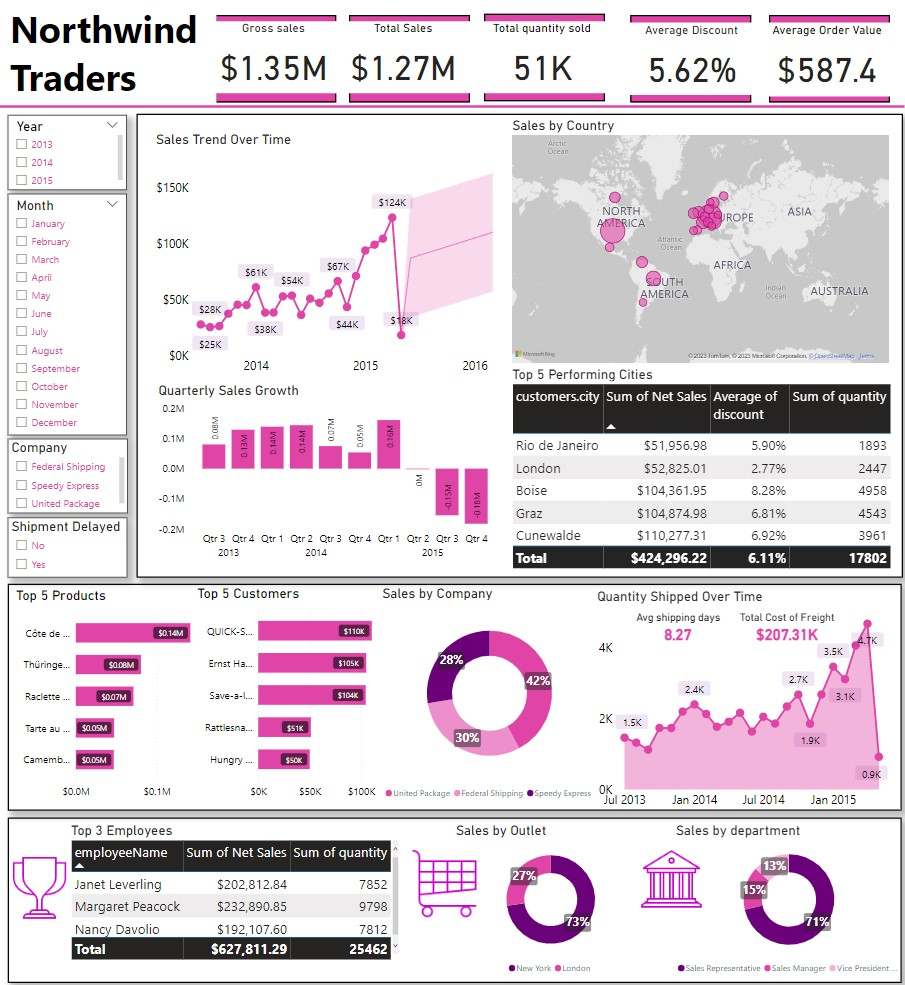

What the dashboard file says about the page in this screenshot:
{"tool":"powerbi","page":{"name":"Dashboard","canvas":[1450,1600],"ordinal":0},"visuals":[{"type":"shape","box":[13.8,1308.8,1430,265],"z":0},{"type":"shape","box":[14.3,934.3,1430,362.9],"z":1000},{"type":"shape","box":[220,182,1226,742],"z":2000},{"type":"lineChart","title":"Sales Trend Over Time","fields":{"Y":["Table1.Net Sales"],"Category":["Table1.orderDate.Variation.Date Hierarchy.Year","Table1.orderDate.Variation.Date Hierarchy.Quarter","Table1.orderDate.Variation.Date Hierarchy.Month"]},"box":[246,210,570,398],"z":3000},{"type":"slicer","fields":{"Values":["Table1.orderDate.Variation.Date Hierarchy.Year"]},"box":[14,183,190,120],"z":4000},{"type":"slicer","fields":{"Values":["Table1.orderDate.Variation.Date Hierarchy.Month"]},"box":[14,309,190,386],"z":5000},{"type":"map","title":"Sales by Country","fields":{"Category":["Table1.customers.country"],"Size":["Table1.Net Sales"]},"box":[816,188,614,398],"z":6000},{"type":"shape","box":[345.7,23.9,193.3,140],"z":7000},{"type":"card","title":"Gross sales","fields":{"Values":["Table1.Gross sales"]},"box":[325.9,34.7,226.7,115],"z":8000},{"type":"shape","box":[560.1,23.9,193.3,140],"z":9000},{"type":"shape","box":[775.7,22.4,193.3,140],"z":10000},{"type":"shape","box":[1010,24.7,193.3,140],"z":11000},{"type":"shape","box":[1231.6,24.5,193.3,140],"z":12000},{"type":"card","title":"Total quantity sold","fields":{"Values":["Table1.quantity"]},"box":[757.5,33.2,221.7,115],"z":13000},{"type":"card","title":"Average Discount","fields":{"Values":["Table1.discount"]},"box":[997.4,35.5,220,116],"z":14000},{"type":"card","title":"Average Order Value","fields":{"Values":["Table1.Net Sales"]},"box":[1204.3,35.3,242,118],"z":15000},{"type":"card","title":"Total Sales","fields":{"Values":["Table1.Net Sales"]},"box":[536.9,33,221.7,115],"z":16000},{"type":"clusteredBarChart","title":"Top 5 Products","fields":{"Category":["Table1.productName"],"Y":["Table1.Net Sales"]},"box":[22,940,352,348],"z":17000},{"type":"slicer","title":"Company","fields":{"Values":["Table1.companyName"]},"box":[13,701,192,119],"z":18000},{"type":"clusteredBarChart","title":"Top 5 Customers","fields":{"Category":["Table1.customers.companyName"],"Y":["Table1.Net Sales"]},"box":[312,936,362,352],"z":19000},{"type":"donutChart","title":"Sales by Company","fields":{"Category":["Table1.companyName"],"Y":["Table1.Net Sales"]},"box":[608,936,354,352],"z":20000},{"type":"columnChart","title":"Quarterly Sales Growth","fields":{"Category":["Table1.orderDate.Variation.Date Hierarchy.Year","Table1.orderDate.Variation.Date Hierarchy.Quarter"],"Y":["Table1.Diff TY and LY"]},"box":[250,612,556,298],"z":21000},{"type":"tableEx","title":"Top 5 Performing Cities","fields":{"Values":["Table1.customers.city","Table1.Net Sales","Table1.discount","Table1.quantity"]},"box":[816,586,616,340],"z":22000},{"type":"slicer","title":"Shipment Delayed","fields":{"Values":["Table1.Shipment delayed"]},"box":[14,828,191,96],"z":23000},{"type":"areaChart","title":"Quantity Shipped Over Time","fields":{"Category":["Table1.orderDate.Variation.Date Hierarchy.Year","Table1.orderDate.Variation.Date Hierarchy.Quarter","Table1.orderDate.Variation.Date Hierarchy.Month"],"Y":["Table1.quantity"]},"box":[952,942,498,360],"z":24000},{"type":"card","title":"Avg shipping days","fields":{"Values":["Table1.Shipping days"]},"box":[1008.6,977.1,157.1,52.9],"z":25000},{"type":"card","title":"Total Cost of Freight","fields":{"Values":["Table1.freight"]},"box":[1165.7,977.1,190,52.9],"z":26000},{"type":"textbox","box":[11.4,0,335.7,170],"z":27000},{"type":"shape","box":[0,132.9,1448.6,77.1],"z":28000},{"type":"image","box":[998,1340,156,132],"z":29000},{"type":"image","box":[0,1340,130,160],"z":30000},{"type":"image","box":[644,1340,144,148],"z":31000},{"type":"tableEx","title":"Top 3 Employees","fields":{"Values":["Table1.employeeName","Table1.Net Sales","Table1.quantity"]},"box":[110,1316,534,224],"z":32000},{"type":"donutChart","title":"Sales by Outlet","fields":{"Category":["Table1.city"],"Y":["Table1.Net Sales"]},"box":[726,1316,314,252],"z":33000},{"type":"donutChart","title":"Sales by department","fields":{"Category":["Table1.title"],"Y":["Table1.Net Sales"]},"box":[1078,1316,372,252],"z":34000}]}

Visuals, with their boxes in screenshot pixels (x1, y1, x2, y2), scaled from the page's 1450x1600 canvas onto the 905x985 screenshot:
shape: bbox=(9, 806, 901, 969)
shape: bbox=(9, 575, 901, 799)
shape: bbox=(137, 112, 903, 569)
"Sales Trend Over Time" lineChart: bbox=(154, 129, 509, 374)
slicer - Table1.orderDate.Variation.Date Hierarchy.Year: bbox=(9, 113, 127, 187)
slicer - Table1.orderDate.Variation.Date Hierarchy.Month: bbox=(9, 190, 127, 428)
"Sales by Country" map: bbox=(509, 116, 893, 361)
shape: bbox=(216, 15, 336, 101)
"Gross sales" card: bbox=(203, 21, 345, 92)
shape: bbox=(350, 15, 470, 101)
shape: bbox=(484, 14, 605, 100)
shape: bbox=(630, 15, 751, 101)
shape: bbox=(769, 15, 889, 101)
"Total quantity sold" card: bbox=(473, 20, 611, 91)
"Average Discount" card: bbox=(623, 22, 760, 93)
"Average Order Value" card: bbox=(752, 22, 903, 94)
"Total Sales" card: bbox=(335, 20, 473, 91)
"Top 5 Products" clusteredBarChart: bbox=(14, 579, 233, 793)
"Company" slicer: bbox=(8, 432, 128, 505)
"Top 5 Customers" clusteredBarChart: bbox=(195, 576, 421, 793)
"Sales by Company" donutChart: bbox=(379, 576, 600, 793)
"Quarterly Sales Growth" columnChart: bbox=(156, 377, 503, 560)
"Top 5 Performing Cities" tableEx: bbox=(509, 361, 894, 570)
"Shipment Delayed" slicer: bbox=(9, 510, 128, 569)
"Quantity Shipped Over Time" areaChart: bbox=(594, 580, 904, 802)
"Avg shipping days" card: bbox=(630, 602, 728, 634)
"Total Cost of Freight" card: bbox=(728, 602, 846, 634)
textbox: bbox=(7, 0, 217, 105)
shape: bbox=(0, 82, 904, 129)
image: bbox=(623, 825, 720, 906)
image: bbox=(0, 825, 81, 923)
image: bbox=(402, 825, 492, 916)
"Top 3 Employees" tableEx: bbox=(69, 810, 402, 948)
"Sales by Outlet" donutChart: bbox=(453, 810, 649, 965)
"Sales by department" donutChart: bbox=(673, 810, 904, 965)
